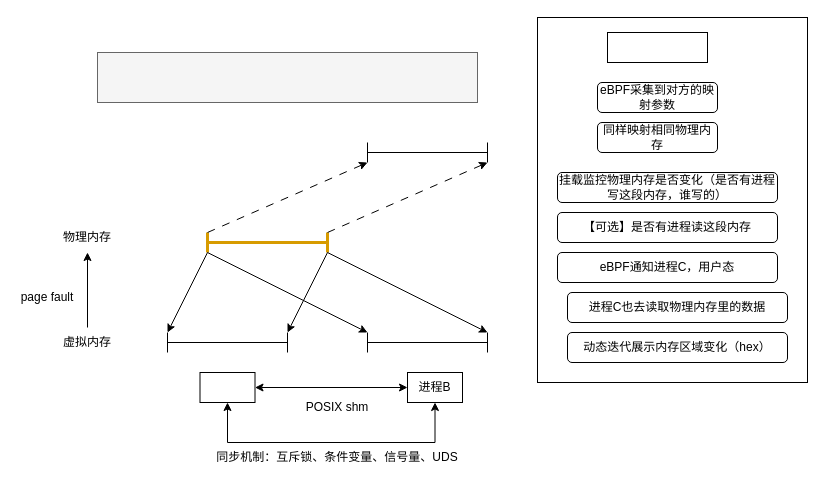
Image size: 825x490. Some labels were removed from this diagram. The shapes that lost their labels are listed below. From the top down, each one's centre as x and y in pixels, then its label:
At point 657,47: "进程C：Viewer".
At point 287,77: "无侵入式旁观共享内存通信方案".
At point 227,387: "进程A".
